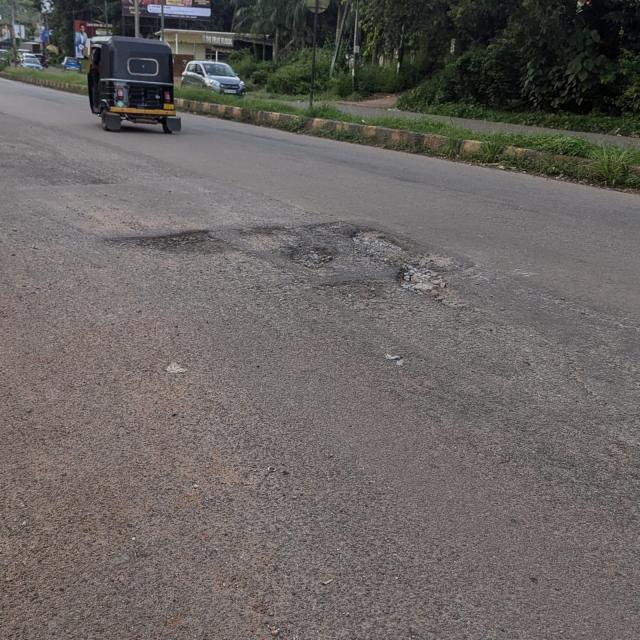pothole: (236, 212, 479, 302), (98, 222, 231, 271)
